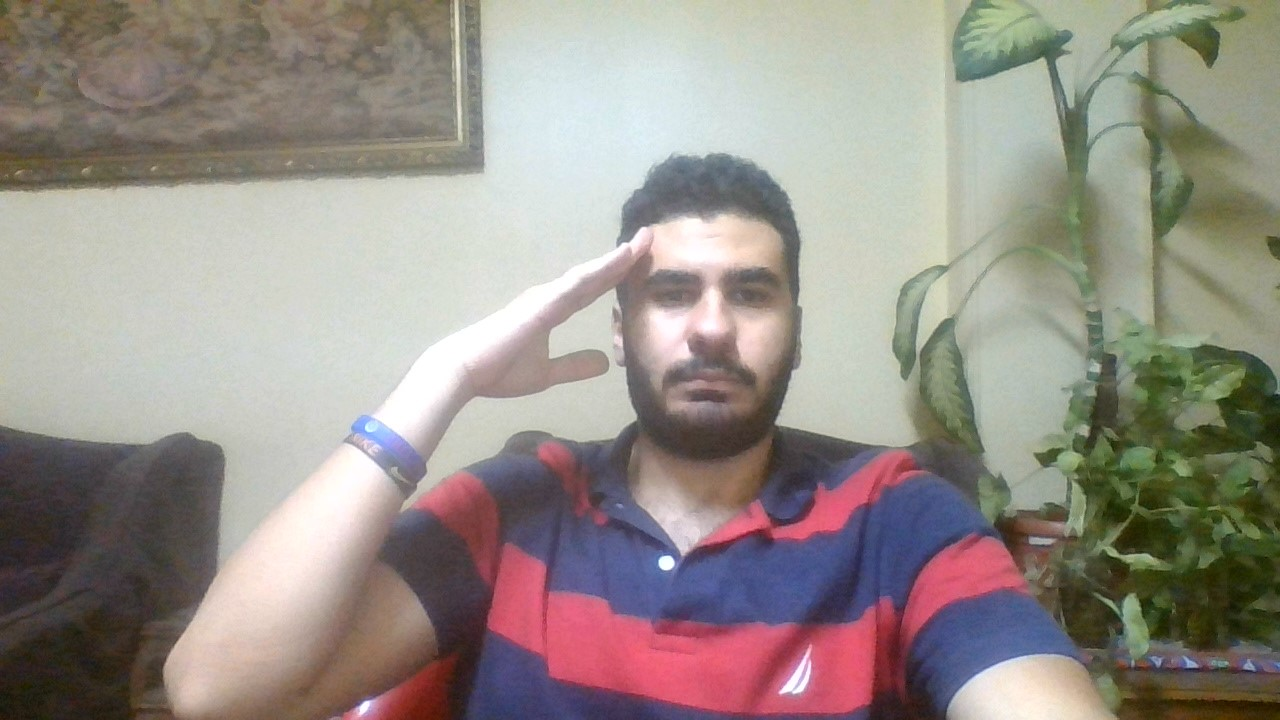hello: (460, 227, 648, 398)
